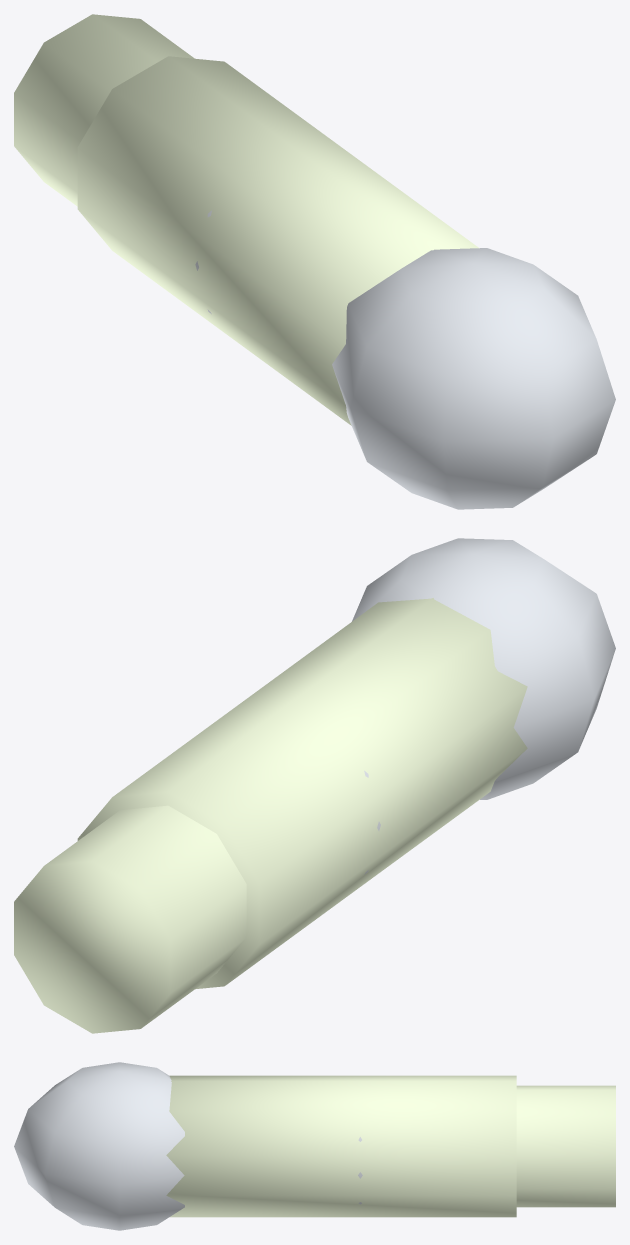
The model's file is fp_arms.glb.
3 renders of one model, top to bottom at view 1: azimuth 30°, elevation 25°; view 2: azimuth 150°, elevation 25°; view 3: azimuth 270°, elevation 25°, orthographic. The views are drawn at different scales.
Visible parts, largest first — view 1: FpArmLU, FpArmLF; view 2: FpArmLU, FpArmLF; view 3: FpArmLU, FpArmLF.
Boxes of the visible parts, x1,y1,x2,y2 form: FpArmLU: (77,56,615,509); FpArmLF: (14,14,211,314); FpArmLU: (77,538,615,989); FpArmLF: (14,770,380,1033); FpArmLU: (14,1062,516,1230); FpArmLF: (358,1085,615,1207).
Size of the model in its own units: 0.1184 by 0.1066 by 0.3879.
